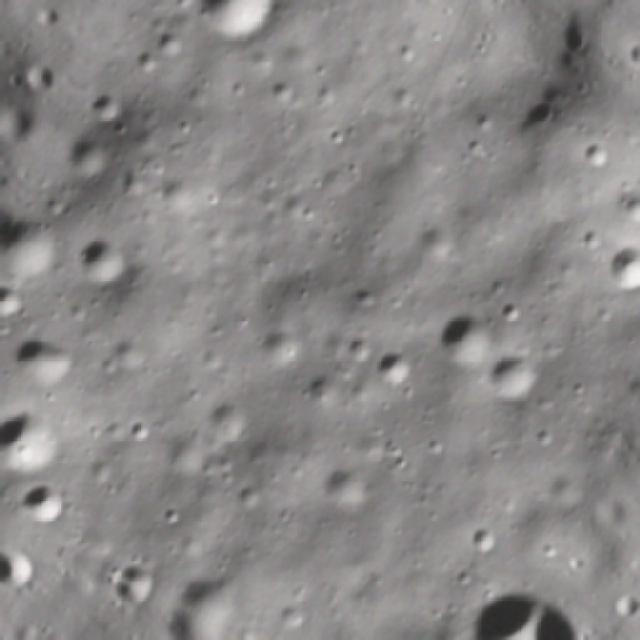crater: (0, 385, 83, 497), (172, 0, 302, 71), (0, 318, 94, 410), (415, 294, 511, 384), (443, 566, 548, 640), (64, 220, 151, 306), (470, 335, 552, 420), (0, 200, 77, 289), (306, 445, 386, 530), (5, 468, 83, 542), (48, 121, 121, 190), (367, 334, 430, 400), (67, 75, 131, 139), (506, 86, 569, 146), (594, 227, 640, 308), (573, 132, 624, 180), (287, 0, 350, 3)
